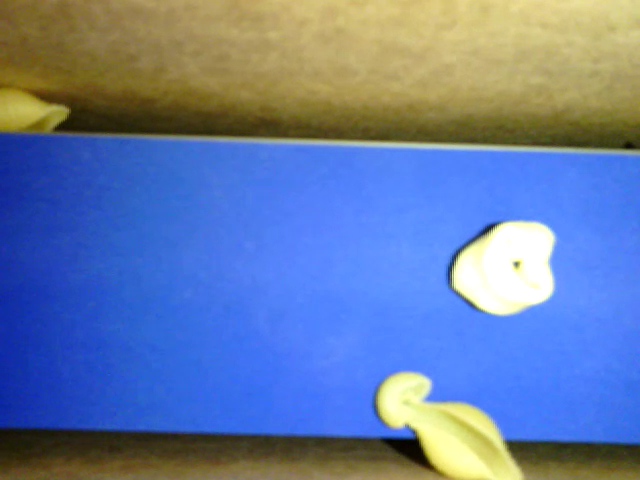shell: (401, 398, 527, 479), (1, 84, 71, 133)
tortellini: (446, 217, 556, 315)
